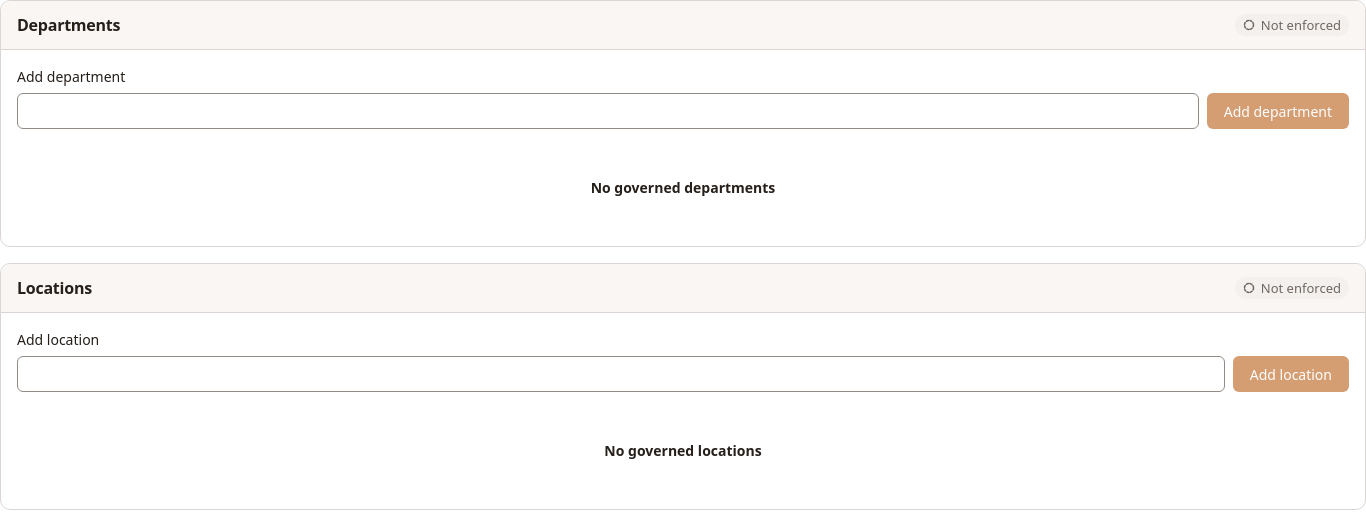
Scenario: ReferenceDataTab › adds a normalized catalog value and refreshes the list
This screenshot has width=1366, height=527.
Expected: the text "No governed locations" is shown, 604,441 -> 762,460
Type "Phoenix" into the field labelled "Add location" at [621, 374], box 17,356 -> 1225,392
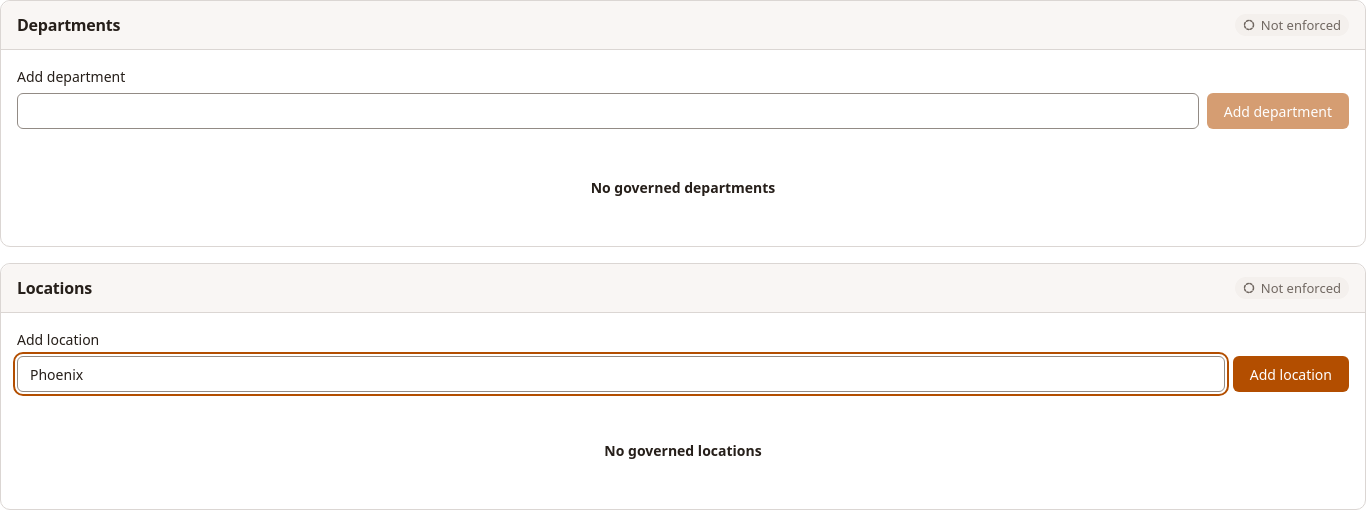
Click the button "Add location" at [1291, 374], box 1233,356 -> 1349,392
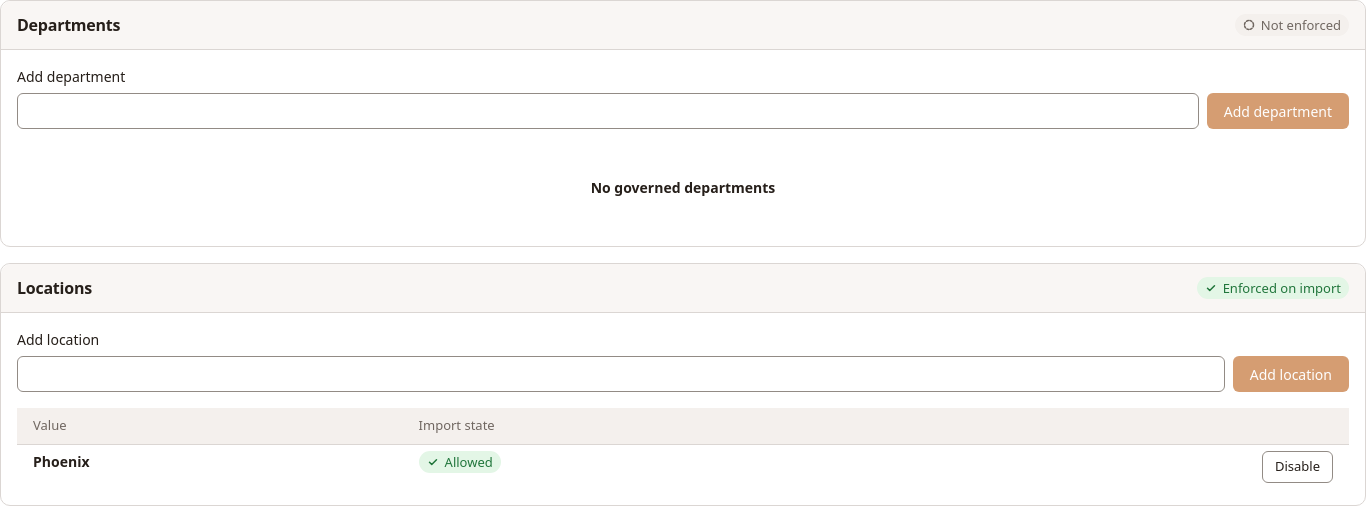
Expected: the column heading "Phoenix" is shown, 17,444 -> 403,488
